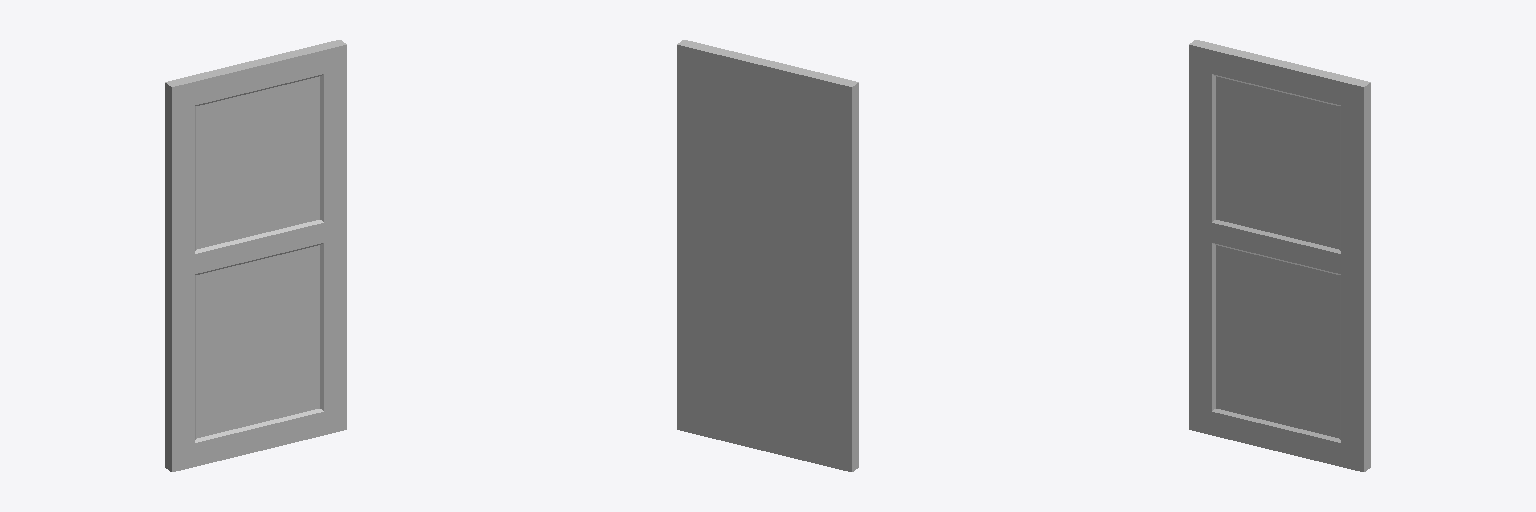
The model's file is PUERTA.obj.
3 views of the same model, side by side, from view 1: azimuth 30°, elevation 25°; view 2: azimuth 150°, elevation 25°; view 3: azimuth 330°, elevation 25° (orthographic).
Parts seen in each view (by area): view 1: mesh5, mesh7, mesh12, mesh3, mesh2, mesh8, mesh13, mesh10, mesh15; view 2: mesh4, mesh3, mesh2; view 3: mesh5, mesh7, mesh12, mesh1, mesh2, mesh9, mesh14, mesh10, mesh15.
Part boxes in pixels (left/top/right/bottom): mesh5: left=172, top=45, right=346, bottom=471; mesh7: left=196, top=245, right=319, bottom=438; mesh12: left=196, top=76, right=319, bottom=249; mesh3: left=165, top=83, right=171, bottom=471; mesh2: left=165, top=40, right=346, bottom=86; mesh8: left=320, top=243, right=323, bottom=410; mesh13: left=320, top=74, right=323, bottom=221; mesh10: left=195, top=409, right=323, bottom=442; mesh15: left=195, top=220, right=323, bottom=253; mesh4: left=677, top=45, right=851, bottom=471; mesh3: left=852, top=83, right=858, bottom=471; mesh2: left=677, top=40, right=858, bottom=86; mesh5: left=1189, top=45, right=1363, bottom=471; mesh7: left=1216, top=245, right=1339, bottom=438; mesh12: left=1216, top=76, right=1339, bottom=249; mesh1: left=1364, top=83, right=1370, bottom=471; mesh2: left=1189, top=40, right=1370, bottom=86; mesh9: left=1212, top=243, right=1215, bottom=410; mesh14: left=1212, top=74, right=1215, bottom=221; mesh10: left=1212, top=409, right=1340, bottom=442; mesh15: left=1212, top=220, right=1340, bottom=253.
Bounding box in the file's own units: 1 × 2.1 × 0.07.